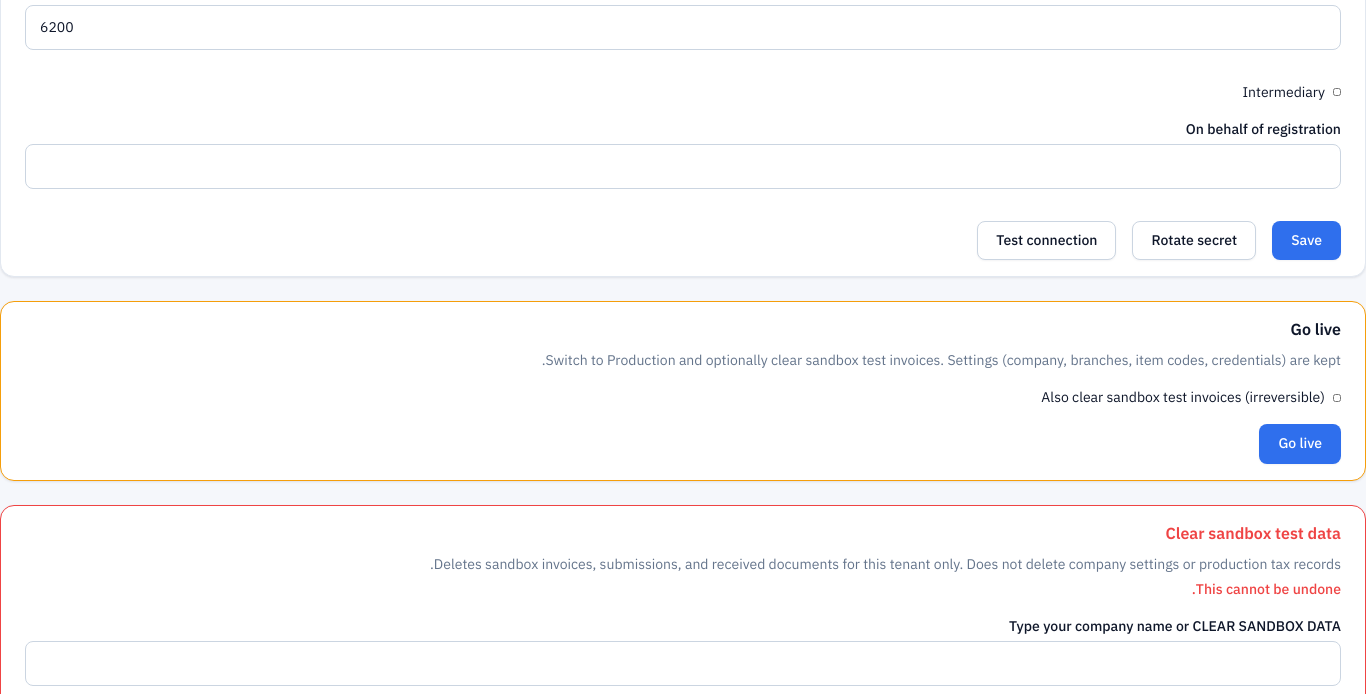
ETA credentials behavior › cancels Go Live confirmation by unchecking the clear option without mutating
The image size is (1366, 694).
(page scrolled)
Expected: the button "Go live" is enabled, [1259,424,1341,464]
Click the checkbox labelled "Also clear sandbox test invoices (irreversible)" at (1337, 398), box [1333,394,1341,402]
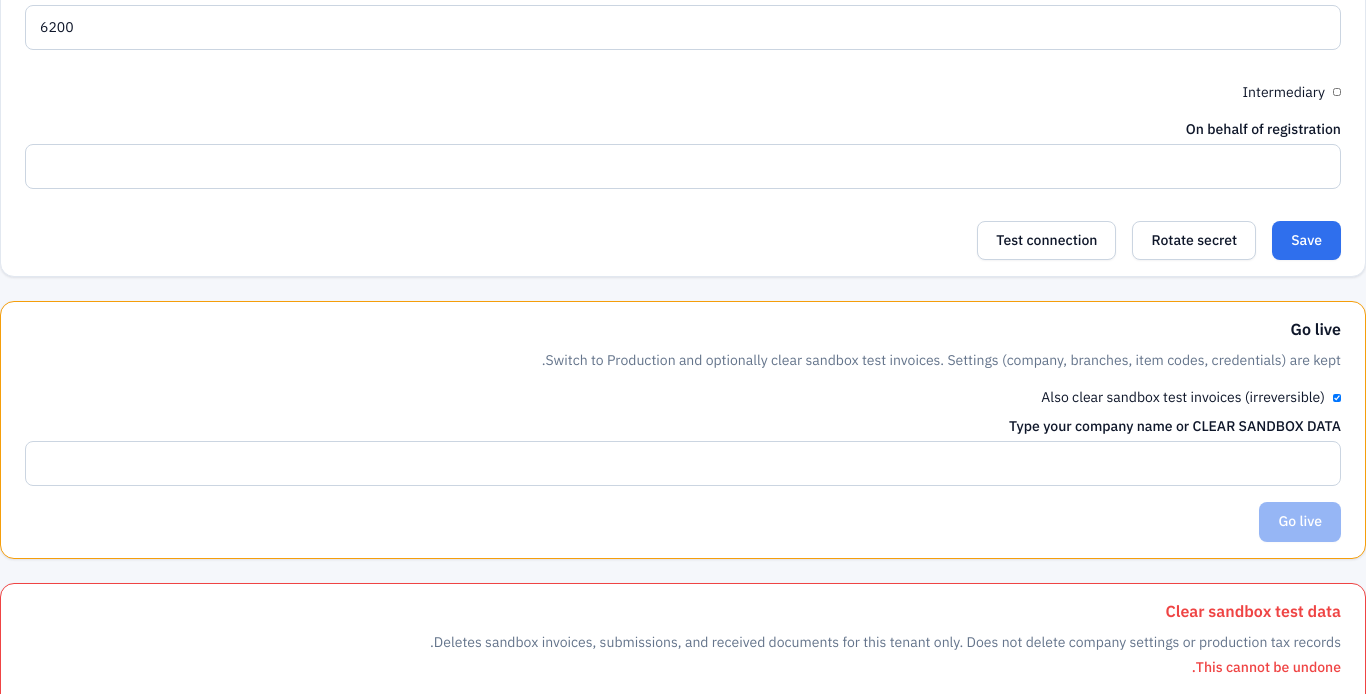
Now the field with test id "go-live-confirm" is shown, box [25,441,1341,486]
Click the checkbox labelled "Also clear sandbox test invoices (irreversible)" at (1337, 398), box [1333,394,1341,402]
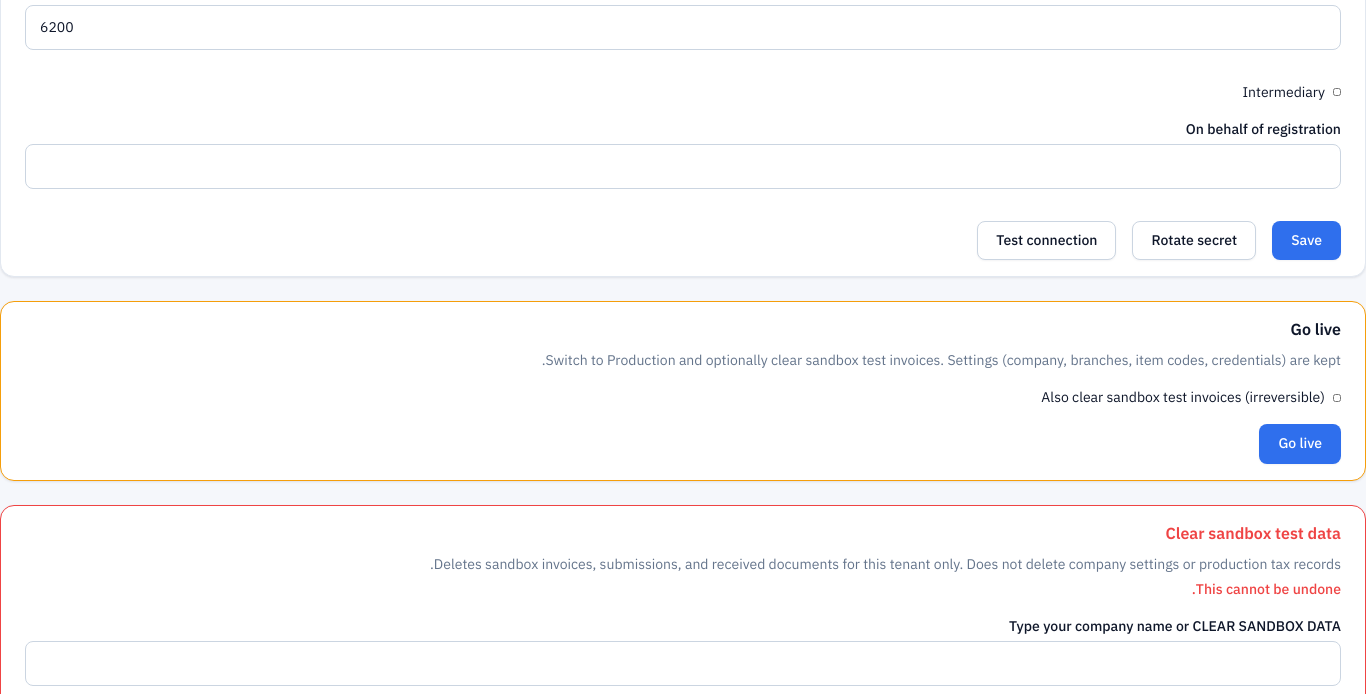
Now the field with test id "go-live-confirm" is gone
Now the button "Go live" is enabled, box [1259,424,1341,464]
